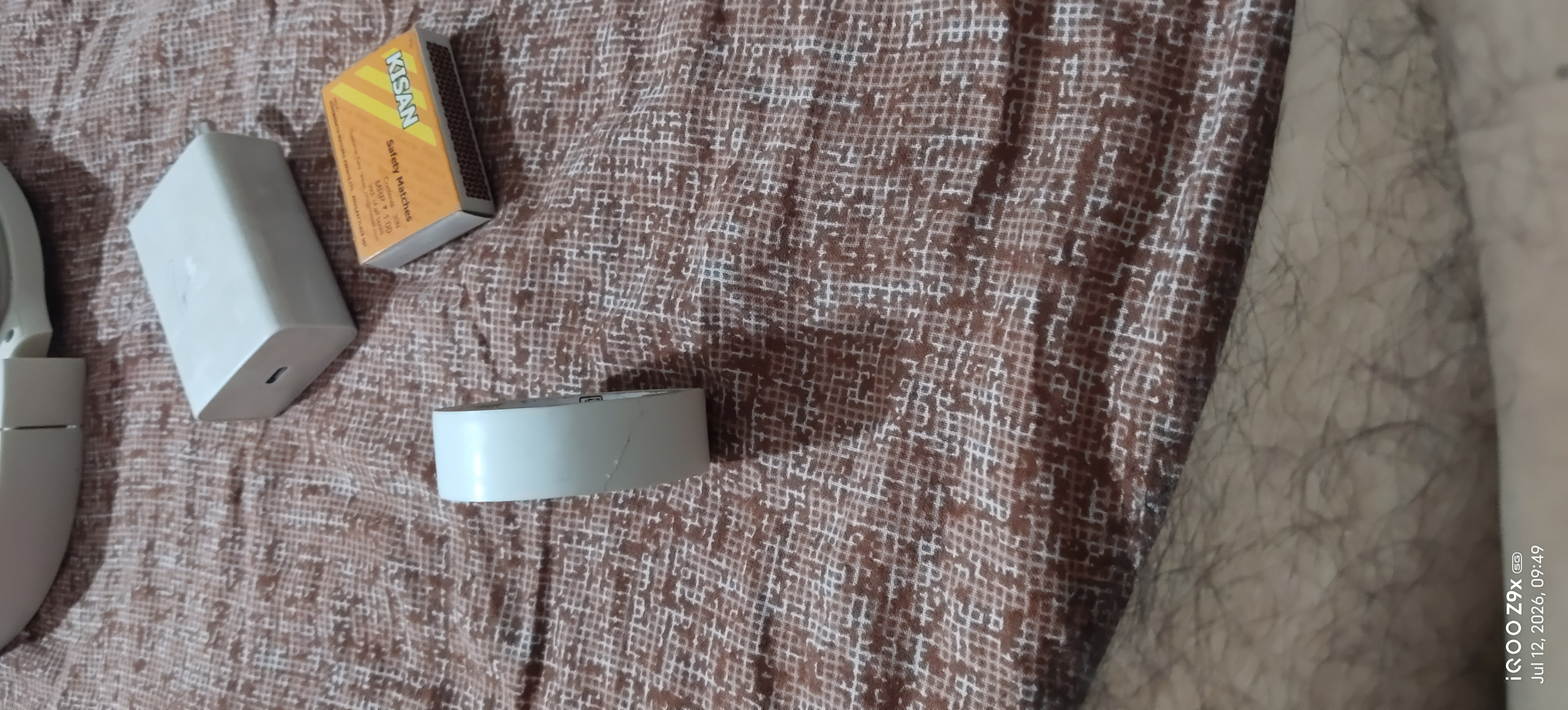charger: (114, 123, 386, 443)
matchbox: (279, 9, 516, 282)
tape_roll: (412, 369, 744, 538)
